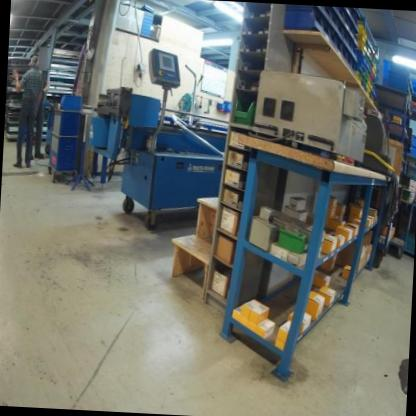small_load_carrier: (411, 134, 416, 146), (411, 147, 416, 158)
